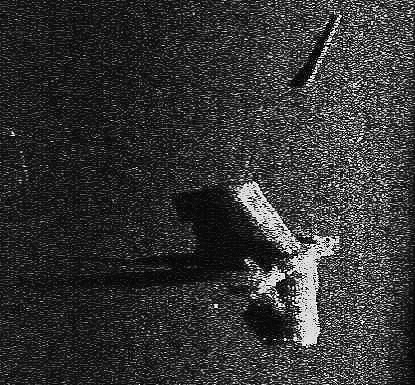plane: (227, 178, 335, 347)
